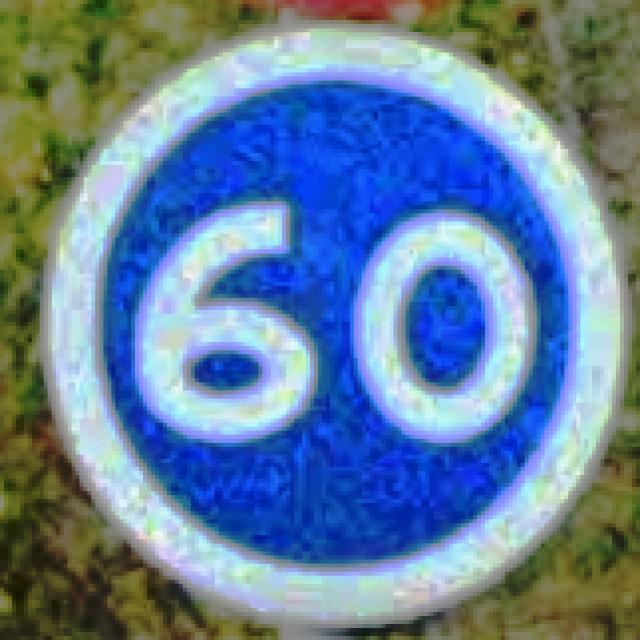min60: (36, 16, 632, 624)
